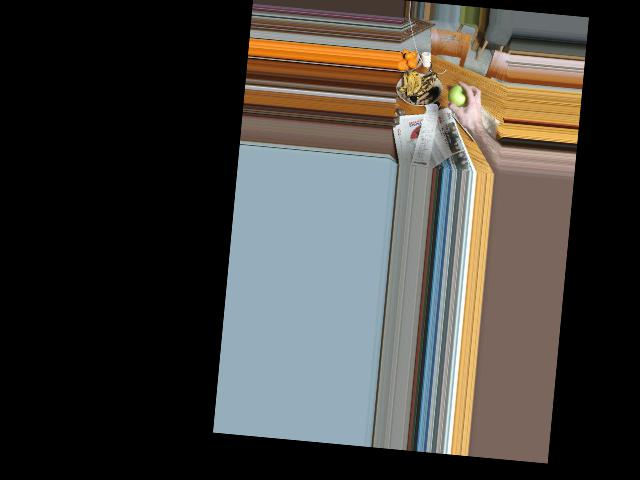apple: (446, 81, 470, 108)
